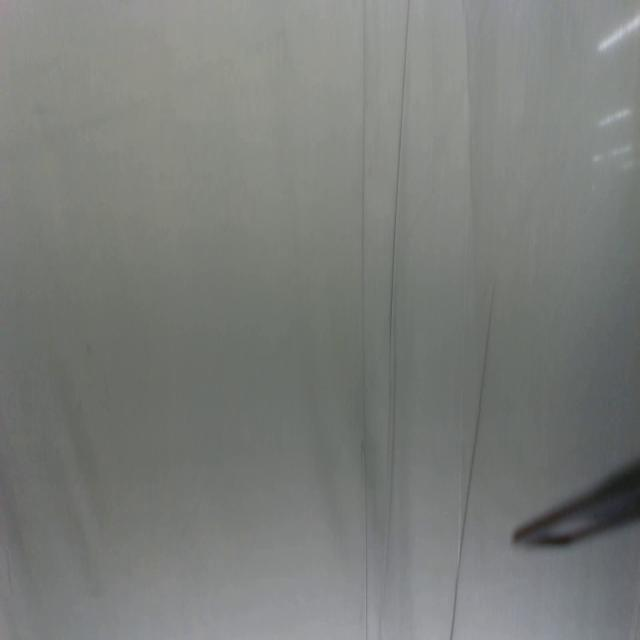crease: (379, 0, 413, 637), (448, 270, 497, 637), (360, 2, 370, 635)
